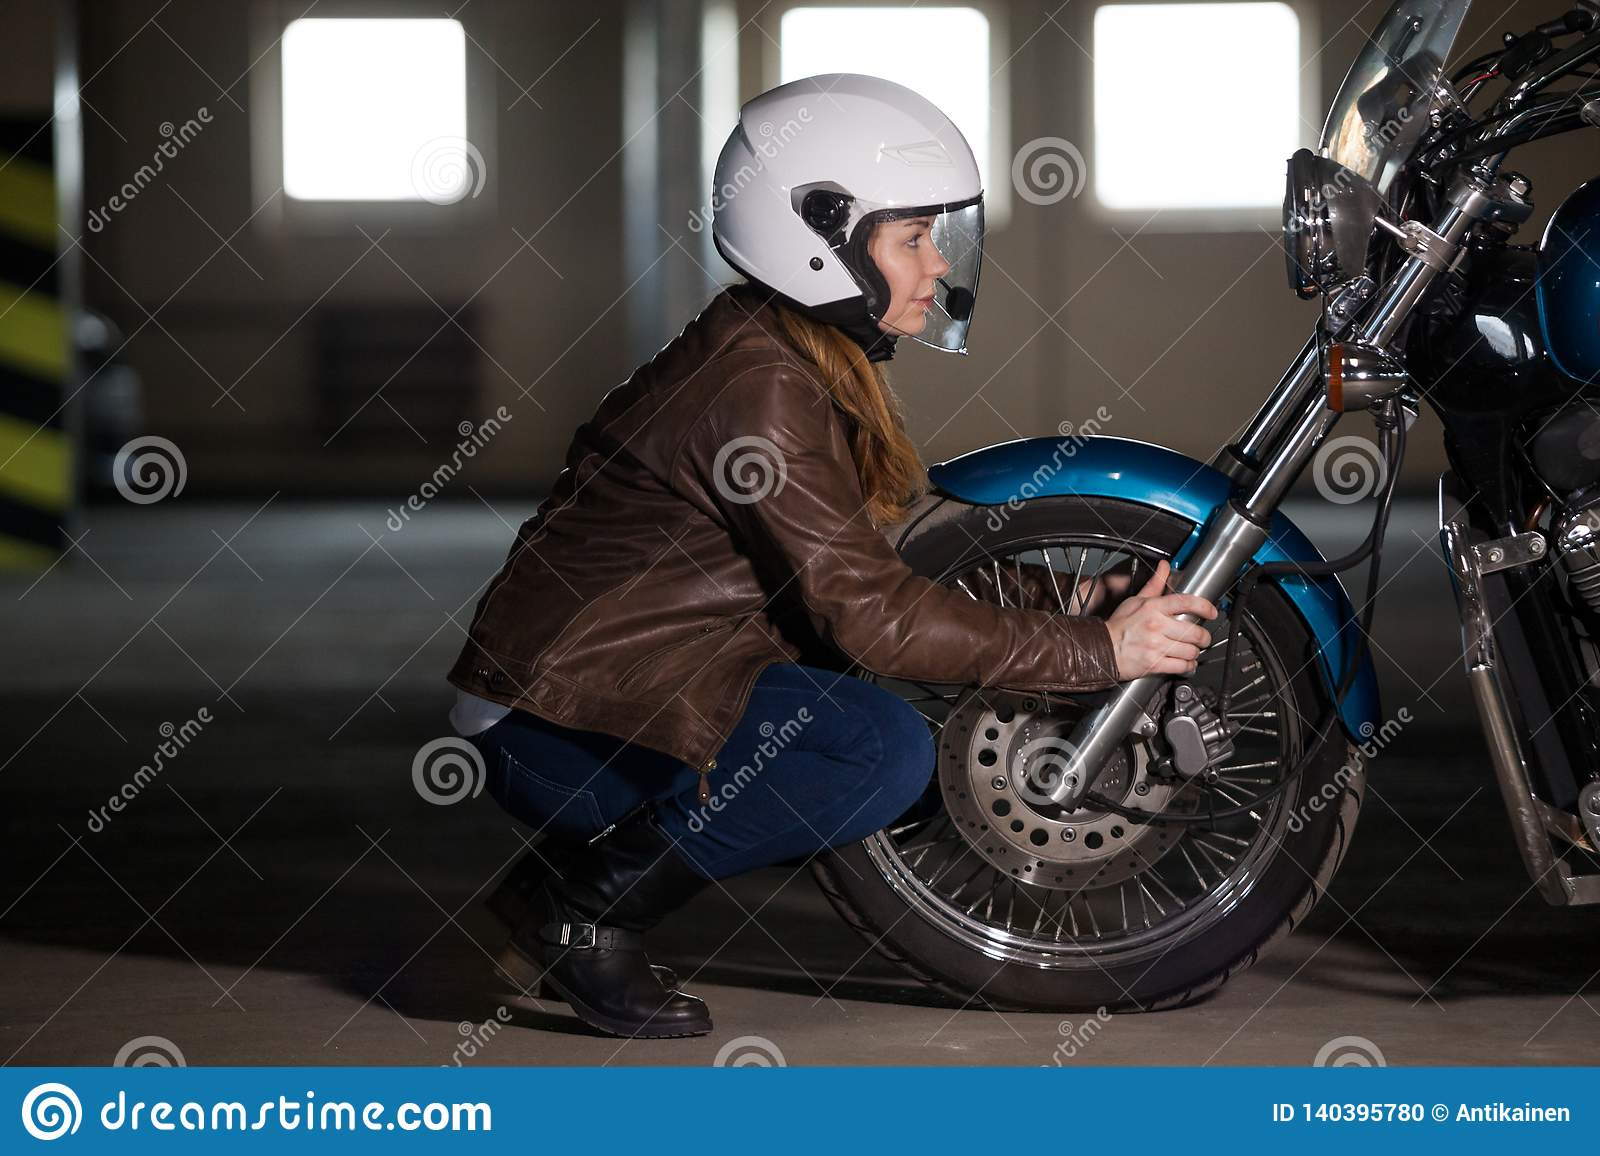helmet: (709, 78, 994, 355)
